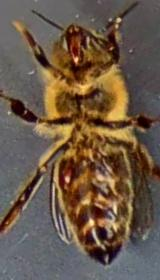varroa_mite: (61, 161, 80, 187)
